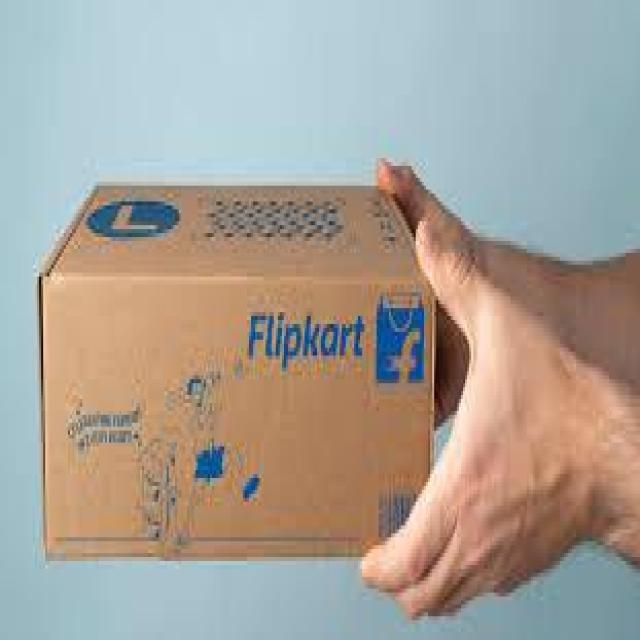box: (37, 170, 449, 573)
